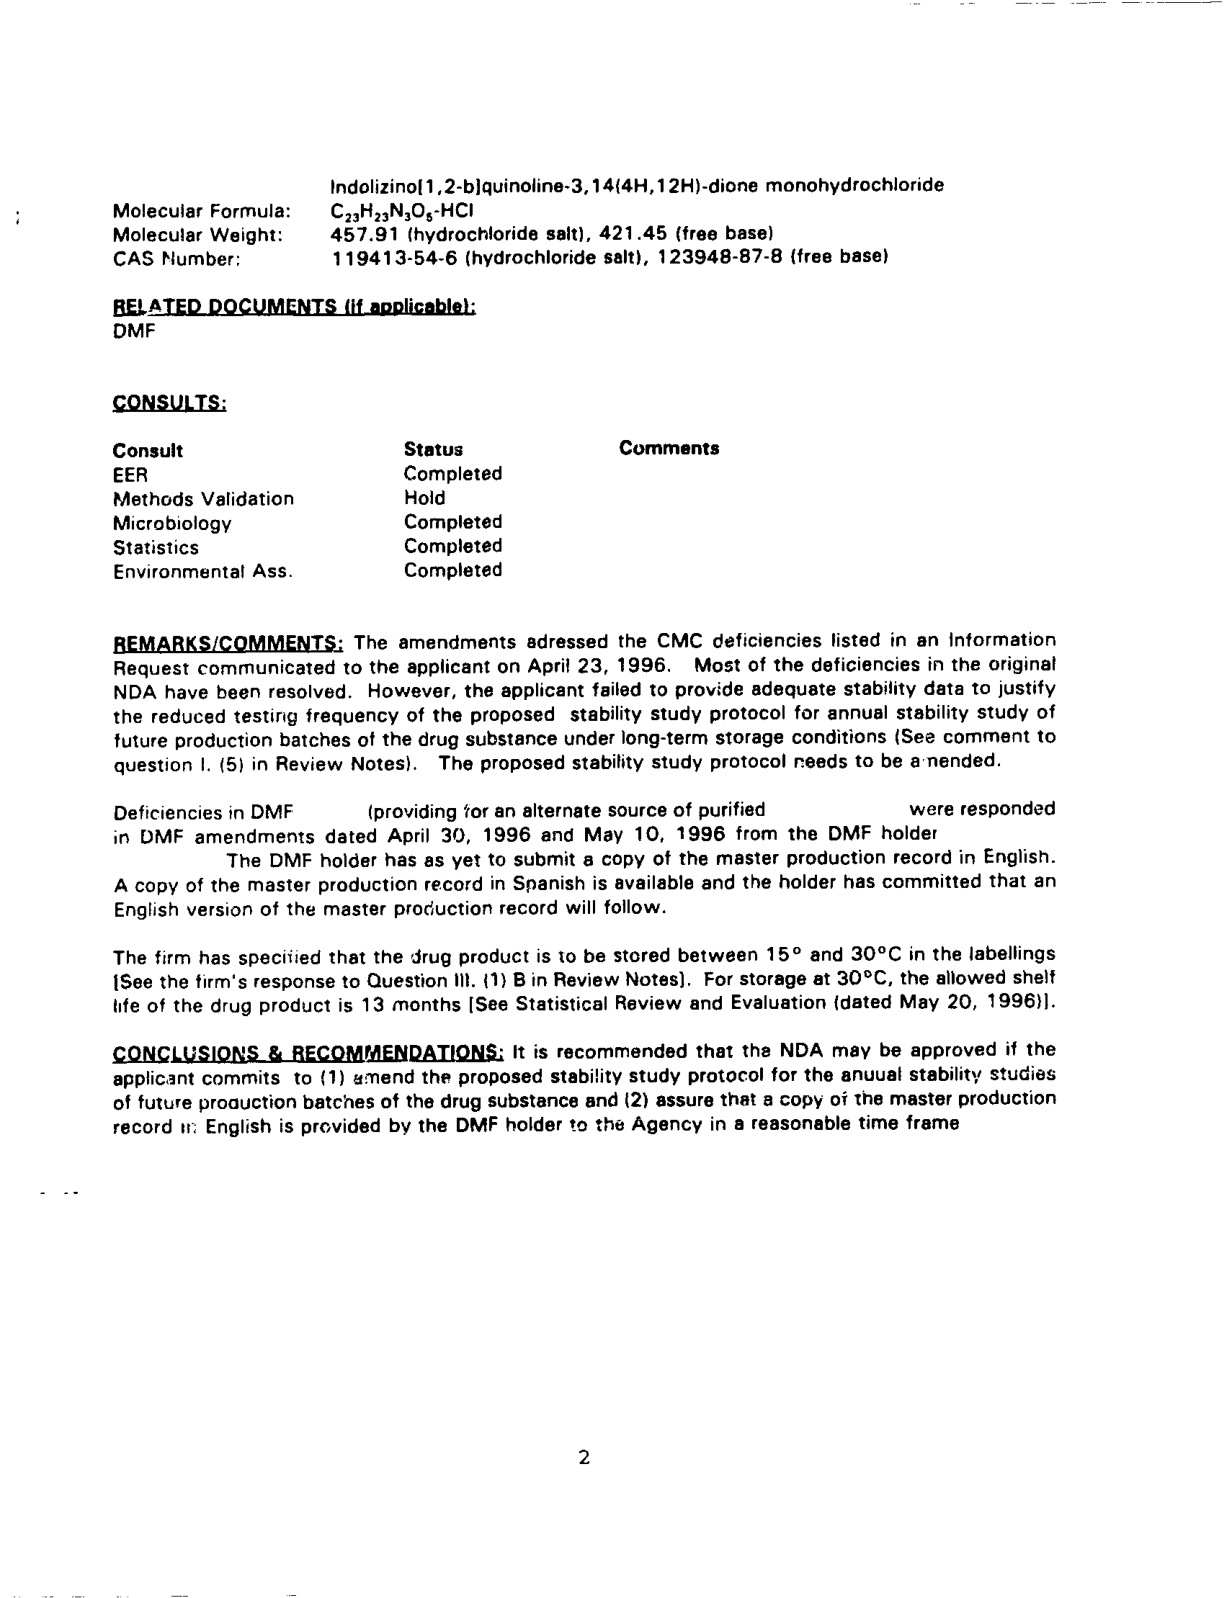nolines: (106, 433, 727, 587)
